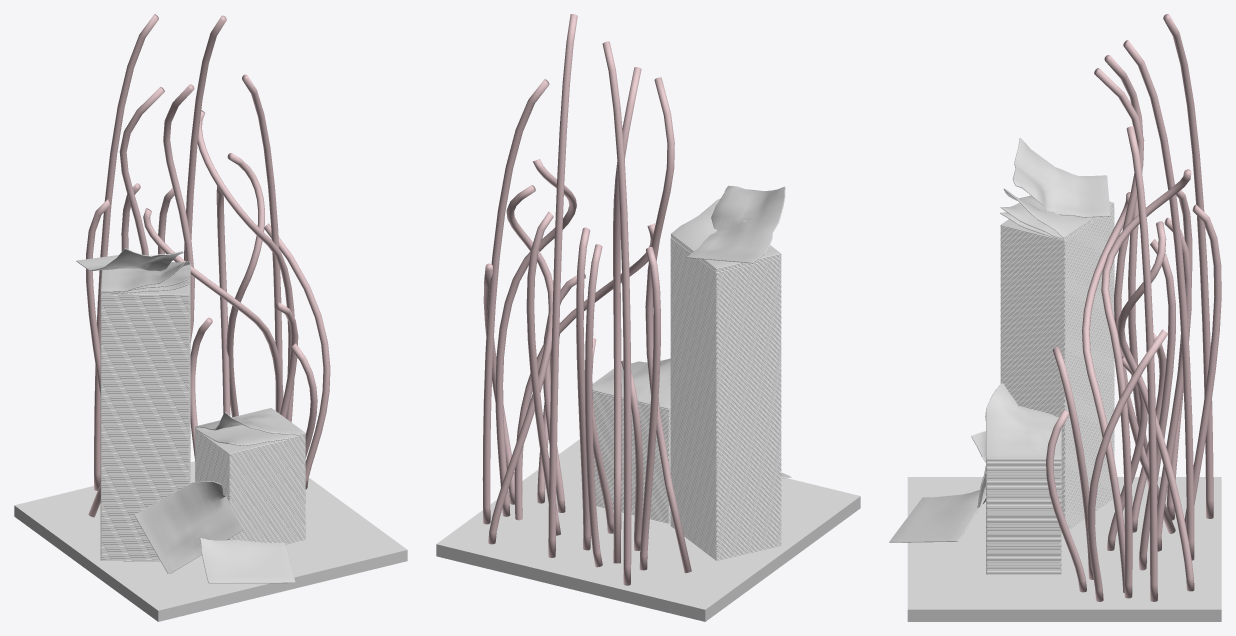
Rendered from Seodo_Statue2.fbx.
3 renders of one model, left to right at view 1: azimuth 30°, elevation 25°; view 2: azimuth 150°, elevation 25°; view 3: azimuth 270°, elevation 25°, orthographic. The views are drawn at different scales.
Parts seen in each view (by area): view 1: SM_Statue2_Paper, SM_Statue_Curve, SM_Statue2_Support; view 2: SM_Statue2_Paper, SM_Statue_Curve, SM_Statue2_Support; view 3: SM_Statue2_Paper, SM_Statue_Curve, SM_Statue2_Support.
Boxes of the visible parts, left/top/right/bottom form: SM_Statue2_Paper: left=76, top=248, right=305, bottom=583; SM_Statue_Curve: left=86, top=14, right=330, bottom=517; SM_Statue2_Support: left=14, top=461, right=407, bottom=621; SM_Statue2_Paper: left=592, top=185, right=791, bottom=560; SM_Statue_Curve: left=482, top=14, right=691, bottom=585; SM_Statue2_Support: left=436, top=439, right=860, bottom=621; SM_Statue2_Paper: left=889, top=137, right=1114, bottom=574; SM_Statue_Curve: left=1046, top=14, right=1221, bottom=601; SM_Statue2_Support: left=907, top=477, right=1221, bottom=621.
Size of the model in its own units: 670 by 1224 by 687.
